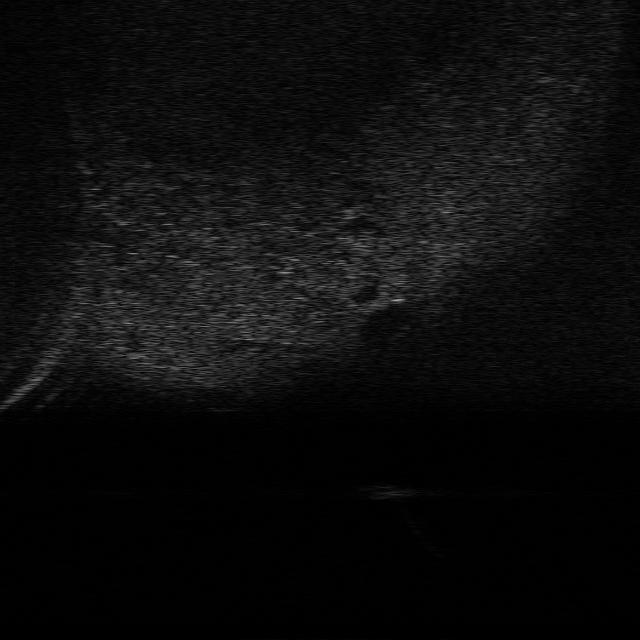cube: (361, 477, 414, 501)
